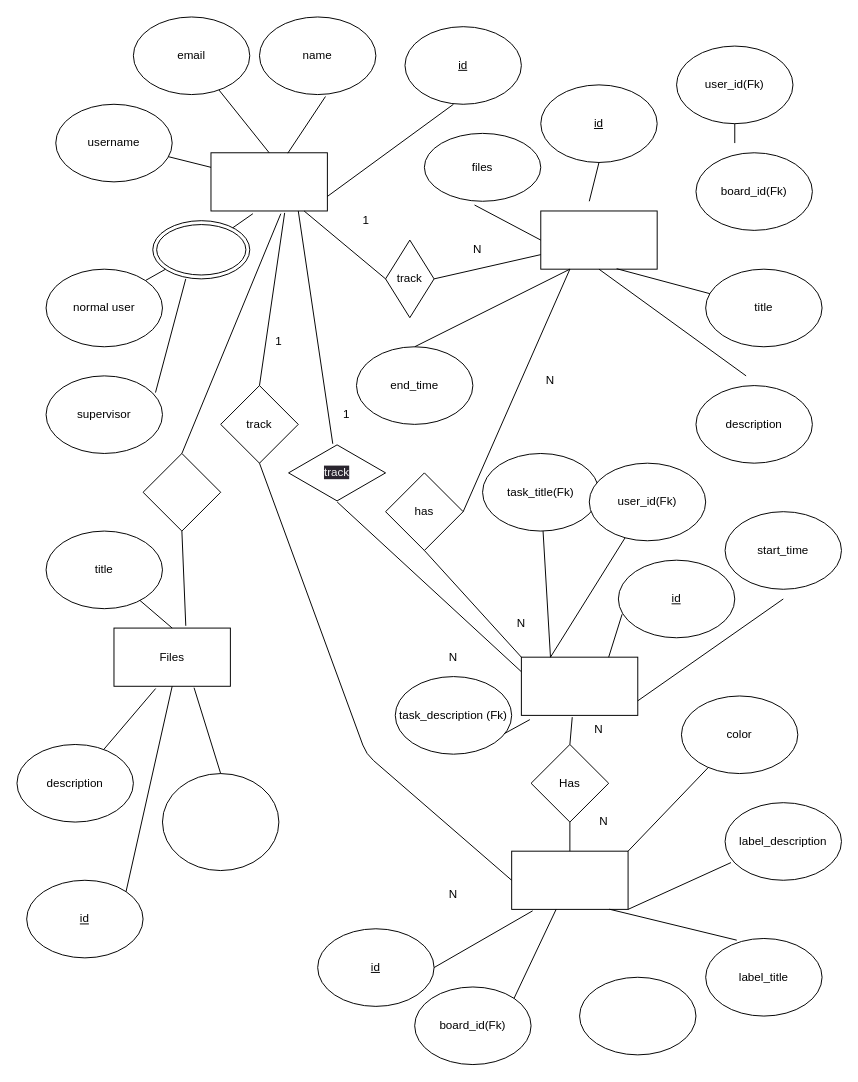
Image size: 858x1082. Some labels were removed from this diagram. Here are the shapes that lost their labels. From the top down, the centre of each, then its label:
At point (268, 181): "Users".
At point (201, 249): "role".
At point (598, 239): "Tasks".
At point (181, 492): "manage".
At point (579, 685): "Taskboards".
At point (220, 822): "img_link".
At point (569, 879): "Label".
At point (637, 1015): "task_id(Fk)".
